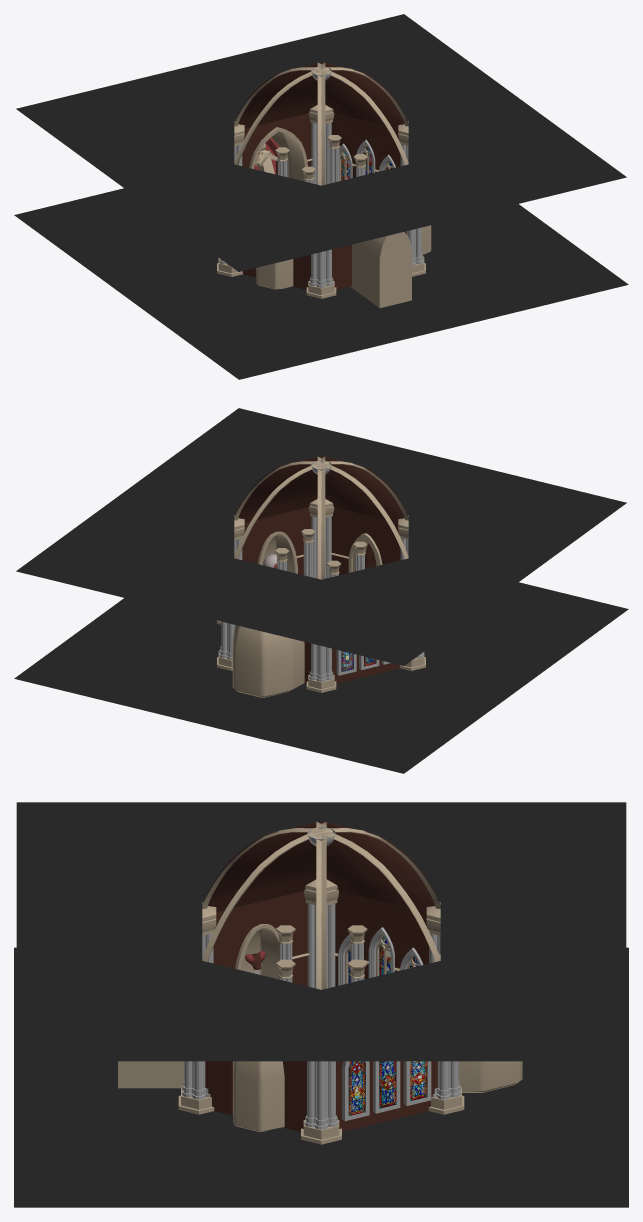
The model's file is Chapel2.fbx.
3 views of the same model, one above another, from view 1: azimuth 30°, elevation 25°; view 2: azimuth 150°, elevation 25°; view 3: azimuth 270°, elevation 25° (orthographic). The views are drawn at different scales.
Visible parts, largest first — view 1: Visible_boundary, Ground, Cathedral_Dome_Inside, Cathedral_Walls6, Entrance_Hall, Cathedral_Dome_Frame, BigPillar_Body (×2), Altar_Champer, Altar_Champer2; view 2: Visible_boundary, Ground, Cathedral_Walls6, Cathedral_Dome_Inside, Altar_Champer, Cathedral_Dome_Frame, BigPillar_Body (×2), Altar_Champer3; view 3: Visible_boundary, Ground, Cathedral_Walls6, Cathedral_Dome_Inside, Cathedral_Dome_Frame, BigPillar_Body (×4), Altar_Champer3, Entrance_Hall, Altar_Champer, Altar_Champer2, Window_Glass_R1, Window_Glass_R2 (+6 smaller).
Part boxes in pixels (bbox=[...]): Visible_boundary: bbox=[16, 14, 626, 271]; Ground: bbox=[14, 188, 628, 379]; Cathedral_Dome_Inside: bbox=[234, 62, 408, 128]; Cathedral_Walls6: bbox=[242, 113, 406, 289]; Entrance_Hall: bbox=[350, 231, 411, 307]; Cathedral_Dome_Frame: bbox=[234, 62, 408, 185]; BigPillar_Body (×2): bbox=[311, 122, 331, 281]; Altar_Champer: bbox=[249, 127, 307, 181]; Altar_Champer2: bbox=[256, 259, 293, 289]; Visible_boundary: bbox=[16, 408, 626, 665]; Ground: bbox=[14, 582, 628, 773]; Cathedral_Walls6: bbox=[242, 507, 400, 683]; Cathedral_Dome_Inside: bbox=[234, 456, 408, 522]; Altar_Champer: bbox=[232, 625, 304, 697]; Cathedral_Dome_Frame: bbox=[234, 456, 408, 579]; BigPillar_Body (×2): bbox=[311, 516, 331, 675]; Altar_Champer3: bbox=[257, 531, 297, 573]; Visible_boundary: bbox=[16, 802, 626, 1061]; Ground: bbox=[14, 947, 628, 1207]; Cathedral_Walls6: bbox=[205, 891, 437, 1131]; Cathedral_Dome_Inside: bbox=[202, 821, 440, 912]; Cathedral_Dome_Frame: bbox=[202, 821, 440, 989]; BigPillar_Body (×4): bbox=[184, 903, 458, 1120]; Altar_Champer3: bbox=[233, 1061, 284, 1131]; Entrance_Hall: bbox=[118, 1061, 184, 1088]; Altar_Champer: bbox=[439, 954, 522, 1092]; Altar_Champer2: bbox=[235, 924, 279, 979]; Window_Glass_R1: bbox=[348, 1061, 365, 1115]; Window_Glass_R2: bbox=[379, 1061, 396, 1108].
Bounding box in the file's own units: 43.21 × 19.18 × 43.21.
